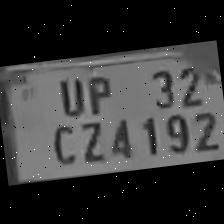1: (132, 110, 160, 158)
2: (186, 104, 222, 152), (171, 60, 205, 106)
3: (144, 60, 176, 110)
4: (102, 111, 134, 160)
9: (157, 108, 190, 154)
C: (44, 118, 78, 166)
P: (80, 68, 116, 113)
U: (52, 70, 88, 116)
Z: (72, 114, 106, 164)
